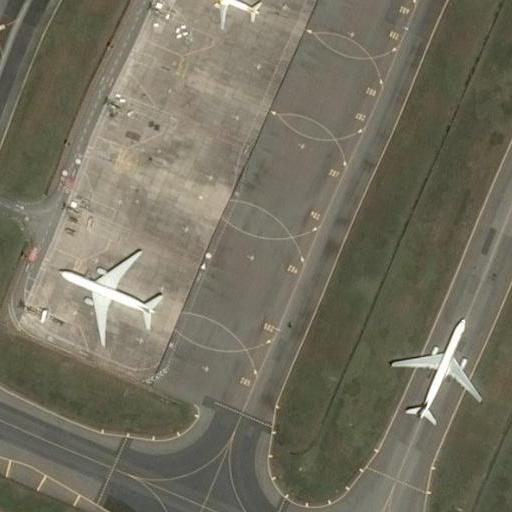Aircraft: (390, 309, 489, 423), (57, 248, 163, 346), (197, 0, 262, 28)
